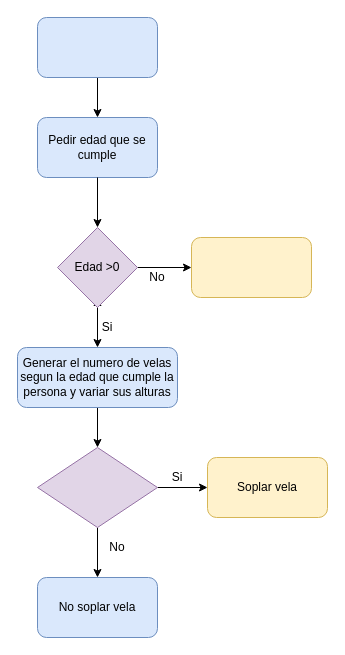
This 345x655 diagram has some shape labels left out. Each missing label, with the centre of its shape:
Edad incorrecta: the point at 251,267
Pastel de cumpleaños: the point at 97,47
Vela tiene altura mayor: the point at 97,487
